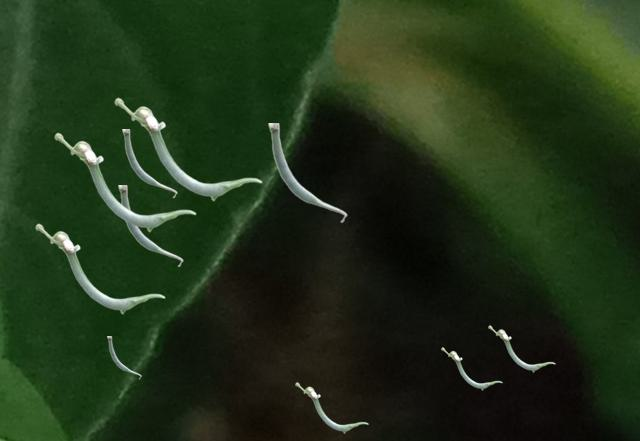french_bean: (114, 97, 261, 200), (54, 132, 195, 231), (35, 223, 164, 313), (268, 123, 346, 222), (118, 185, 182, 266), (122, 129, 176, 197), (295, 382, 367, 432), (488, 325, 554, 371), (441, 347, 501, 389), (107, 336, 140, 378)
